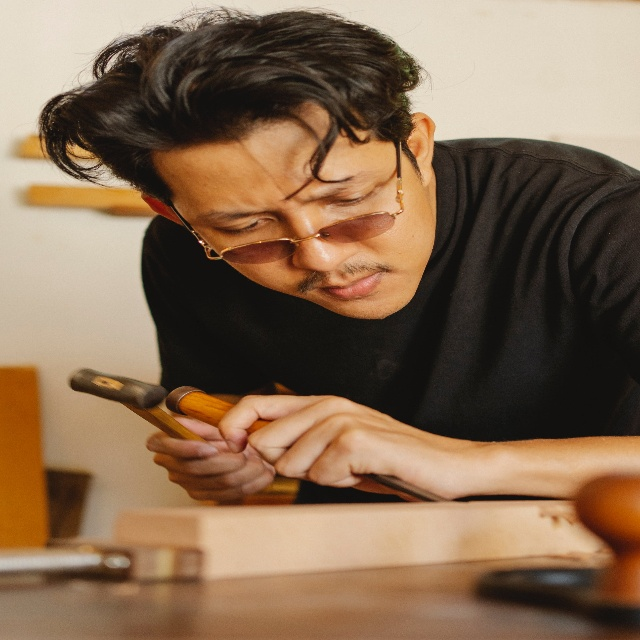Gafas: (169, 135, 404, 268)
Sin_guantes: (216, 394, 469, 502), (145, 414, 275, 502)
